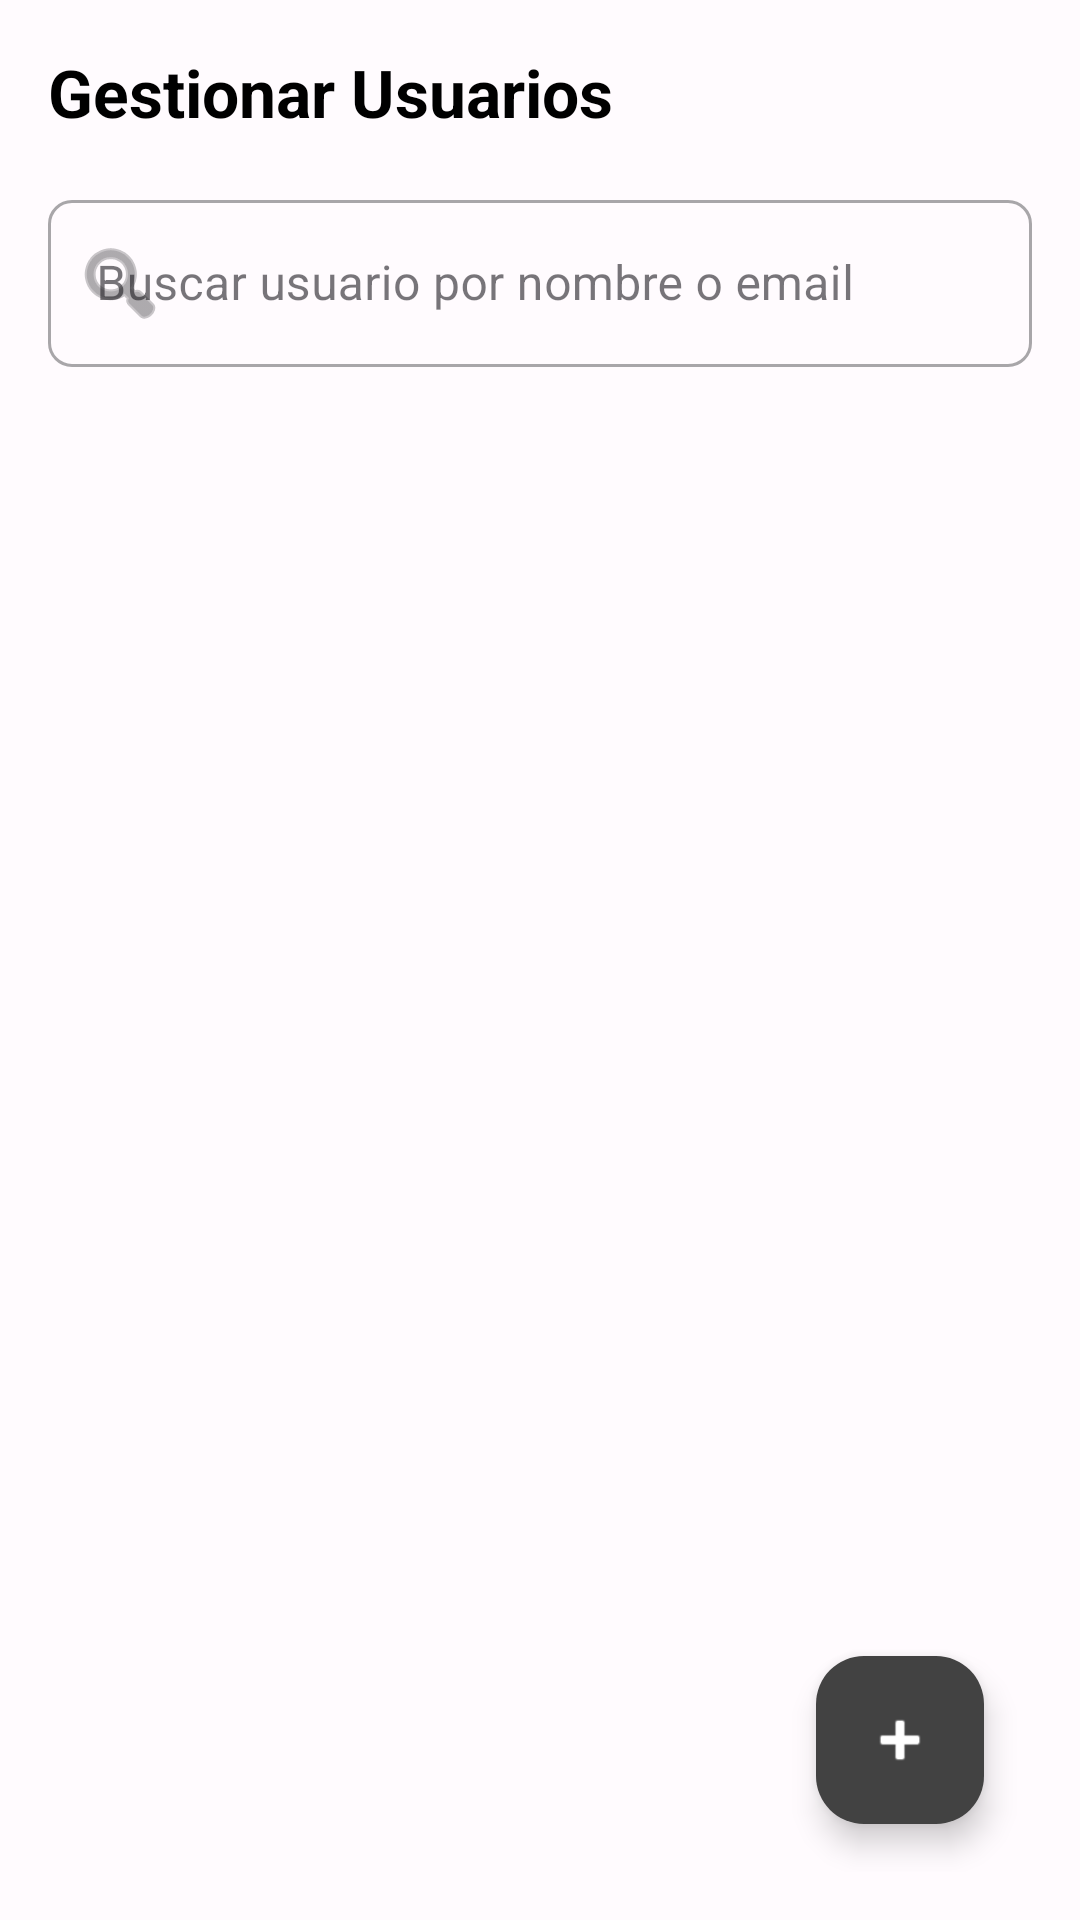

Named icons in this screenshot (1080 x 1920) and their centers, (x,y):
Agregar usuario: (900,1740)
